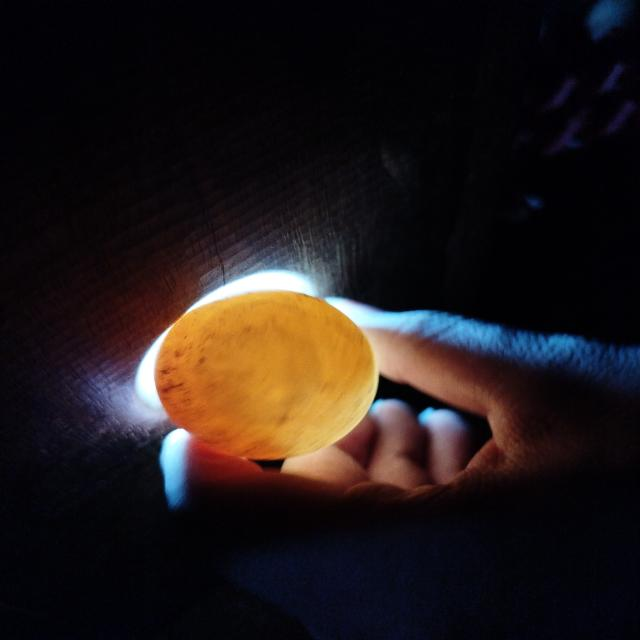Camara de Ar: (194, 324, 324, 421)
